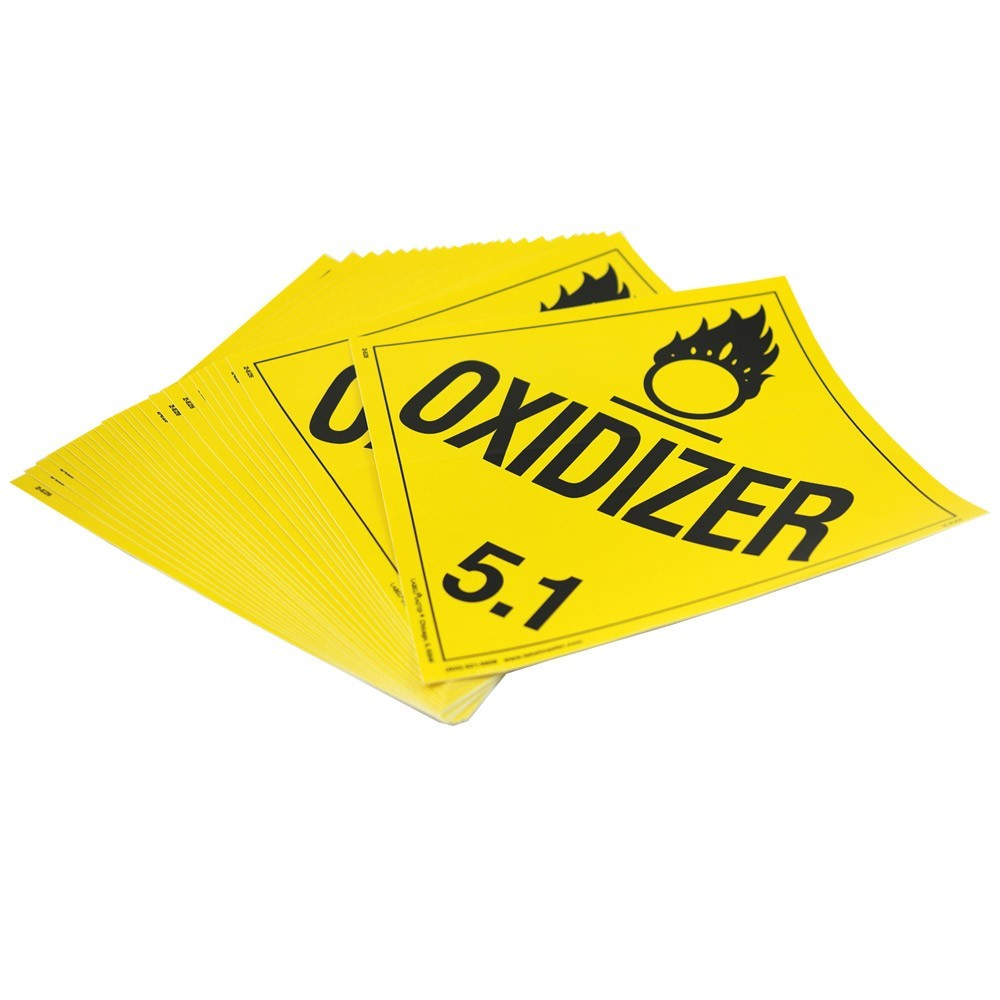Oxidizer: (348, 277, 991, 686)
